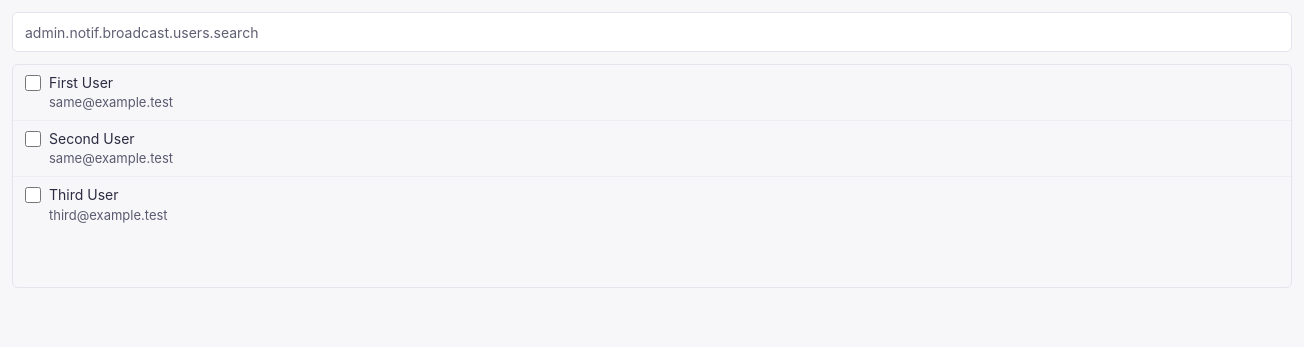
user picker selection › limits unique email recipients while retaining removal at the limit
Click the checkbox labelled "First User same@example.test". click: (33, 83)
box: [25,75,41,91]
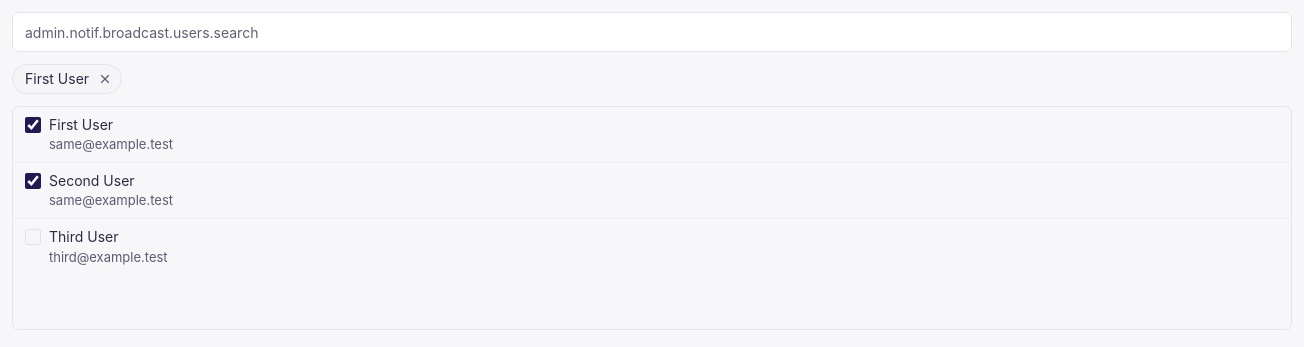
expect the checkbox labelled "Second User same@example.test" is checked: met
Click the checkbox labelled "Second User same@example.test". click: (33, 181)
box: [25,173,41,189]
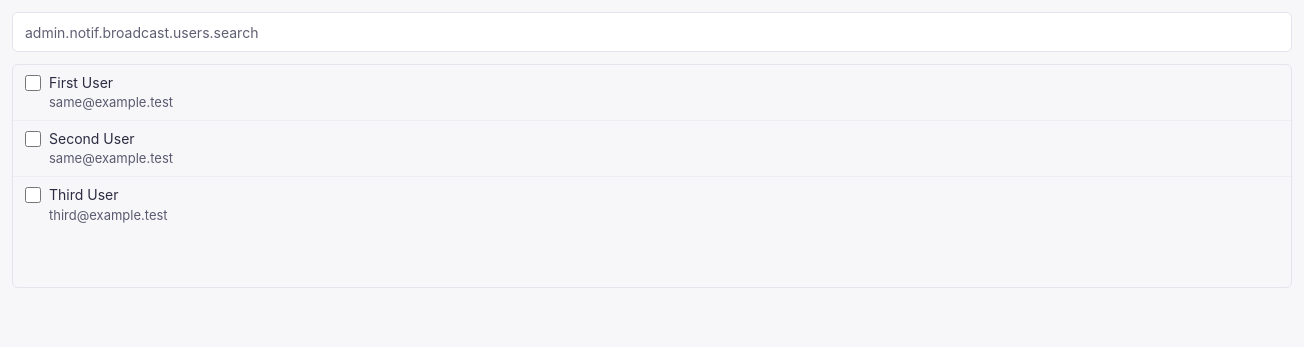
expect the checkbox labelled "First User same@example.test" is not checked: met, box [25,75,41,91]
expect the checkbox labelled "Third User third@example.test" is enabled: met, box [25,188,41,204]
